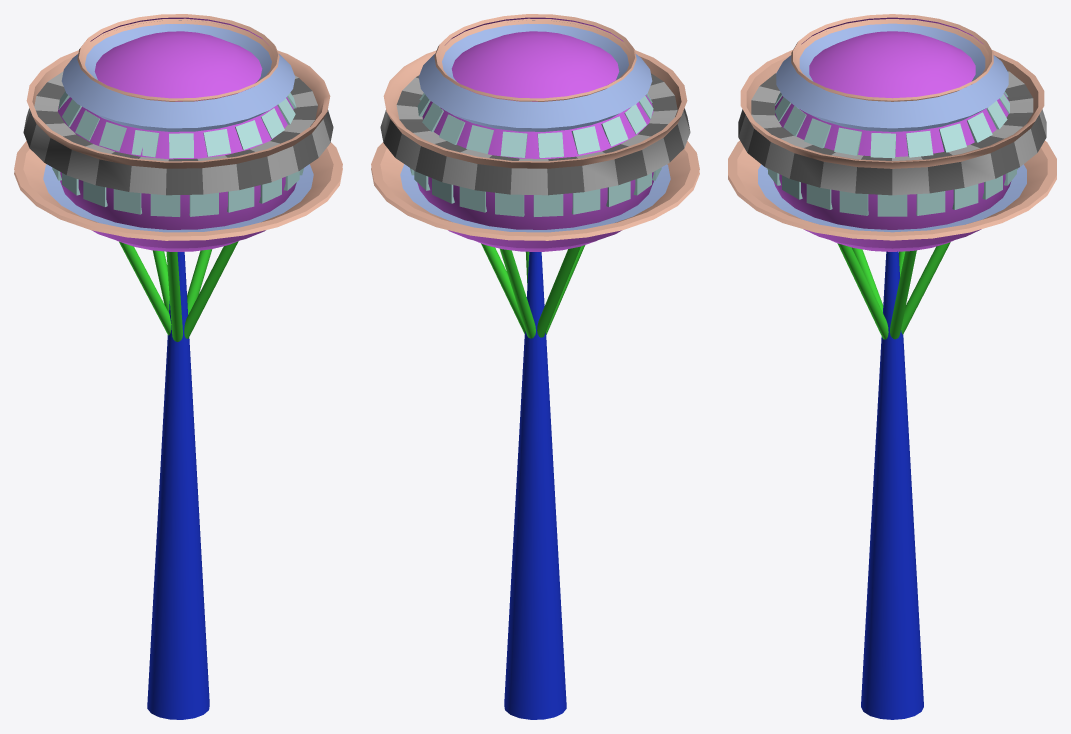
Rendered from tower_Mat.fbx.
The picture shows the model from 3 angles, left to right: view 1: azimuth 30°, elevation 25°; view 2: azimuth 150°, elevation 25°; view 3: azimuth 270°, elevation 25°; orthographic projection.
Visible parts, largest first — view 1: Saeulen; view 2: Saeulen; view 3: Saeulen.
Boxes of the visible parts, x1=… form: Saeulen: x1=14, y1=14, x2=342, y2=719; Saeulen: x1=371, y1=14, x2=699, y2=719; Saeulen: x1=728, y1=14, x2=1056, y2=719.
Size of the model in its own units: 260 by 577 by 260.
